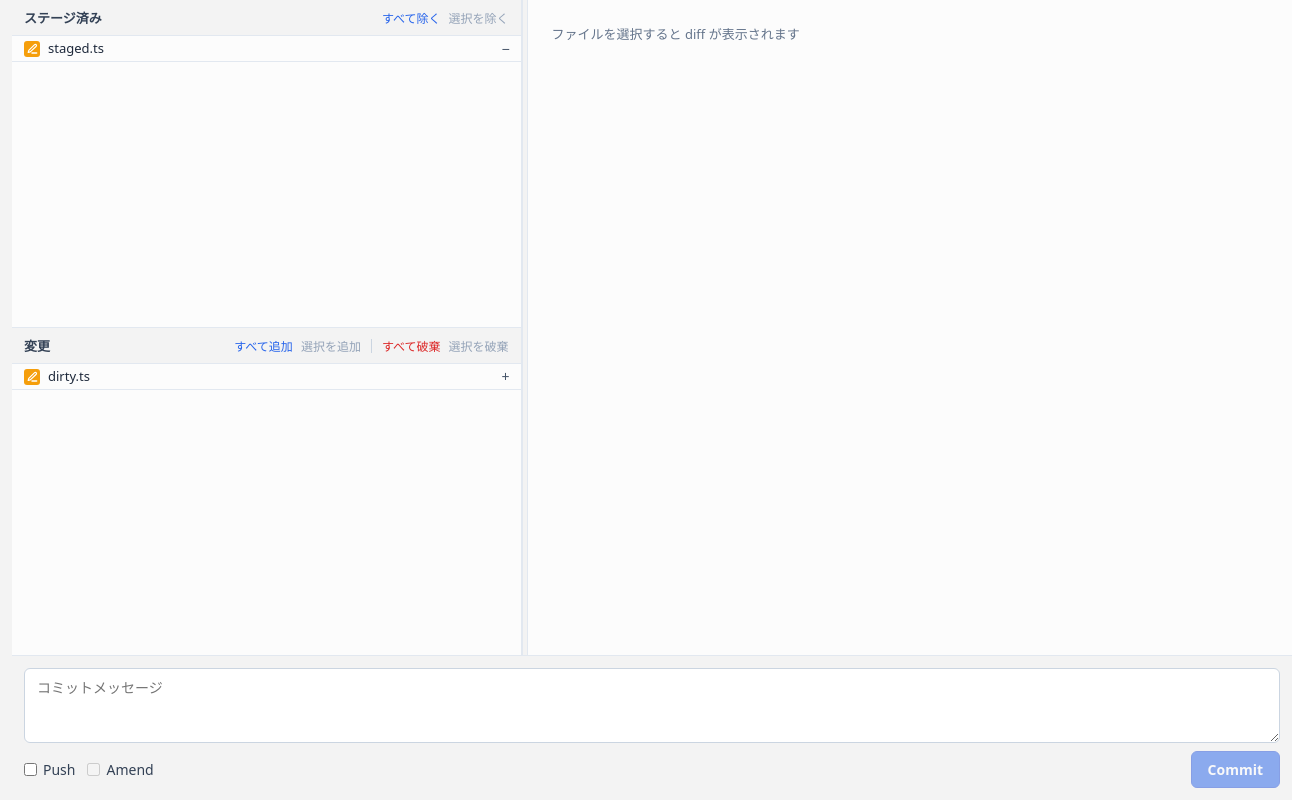
Test: GitWorkspace › opens staged file diff and clears the other section selection
This screenshot has width=1292, height=800.
Click the button "dirty.ts": point(69, 376) [12,364,497,389]
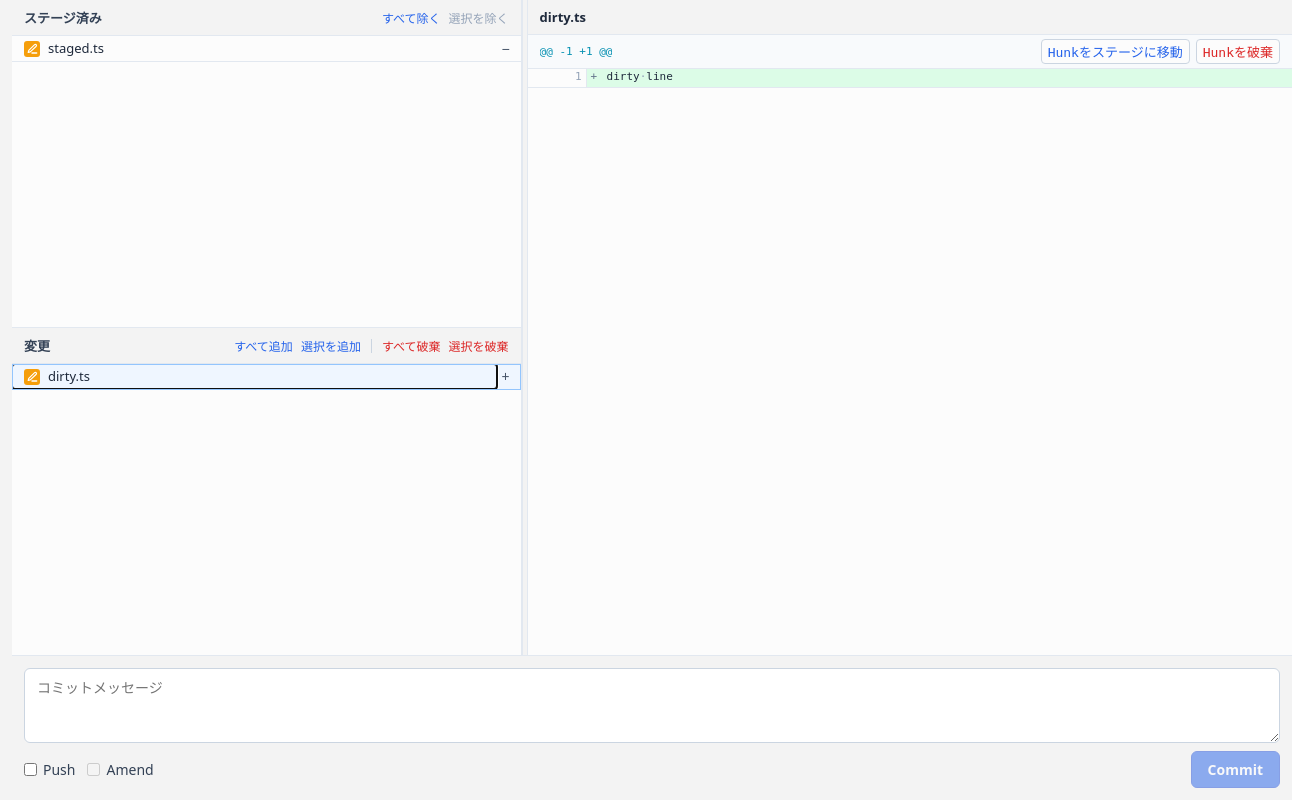
Check: the heading "dirty.ts" is shown, box [540,8,586,26]
Click the button "staged.ts": point(76, 48) [12,36,497,61]
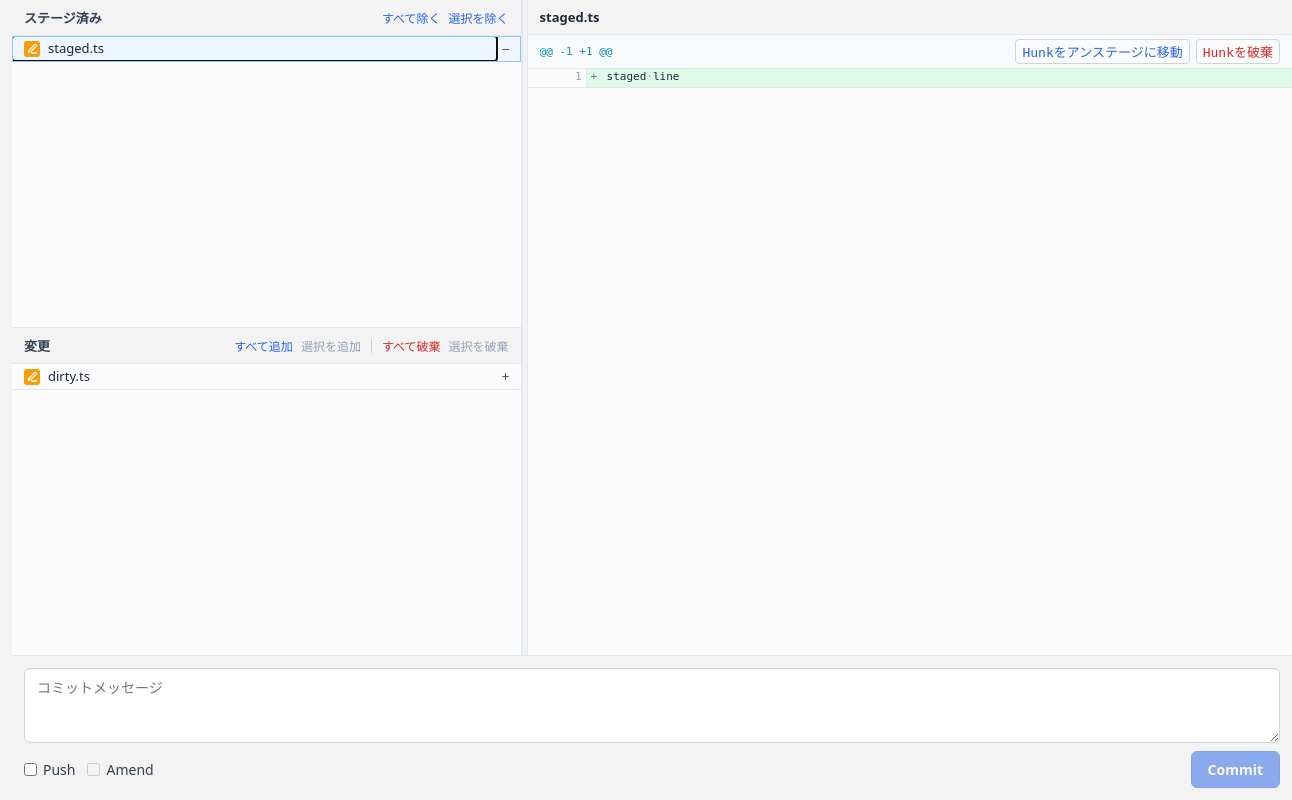
Check: the heading "staged.ts" is shown, box [540,8,600,26]
Check: the button "Hunkをアンステージに移動" is shown, box [1015,39,1190,64]
